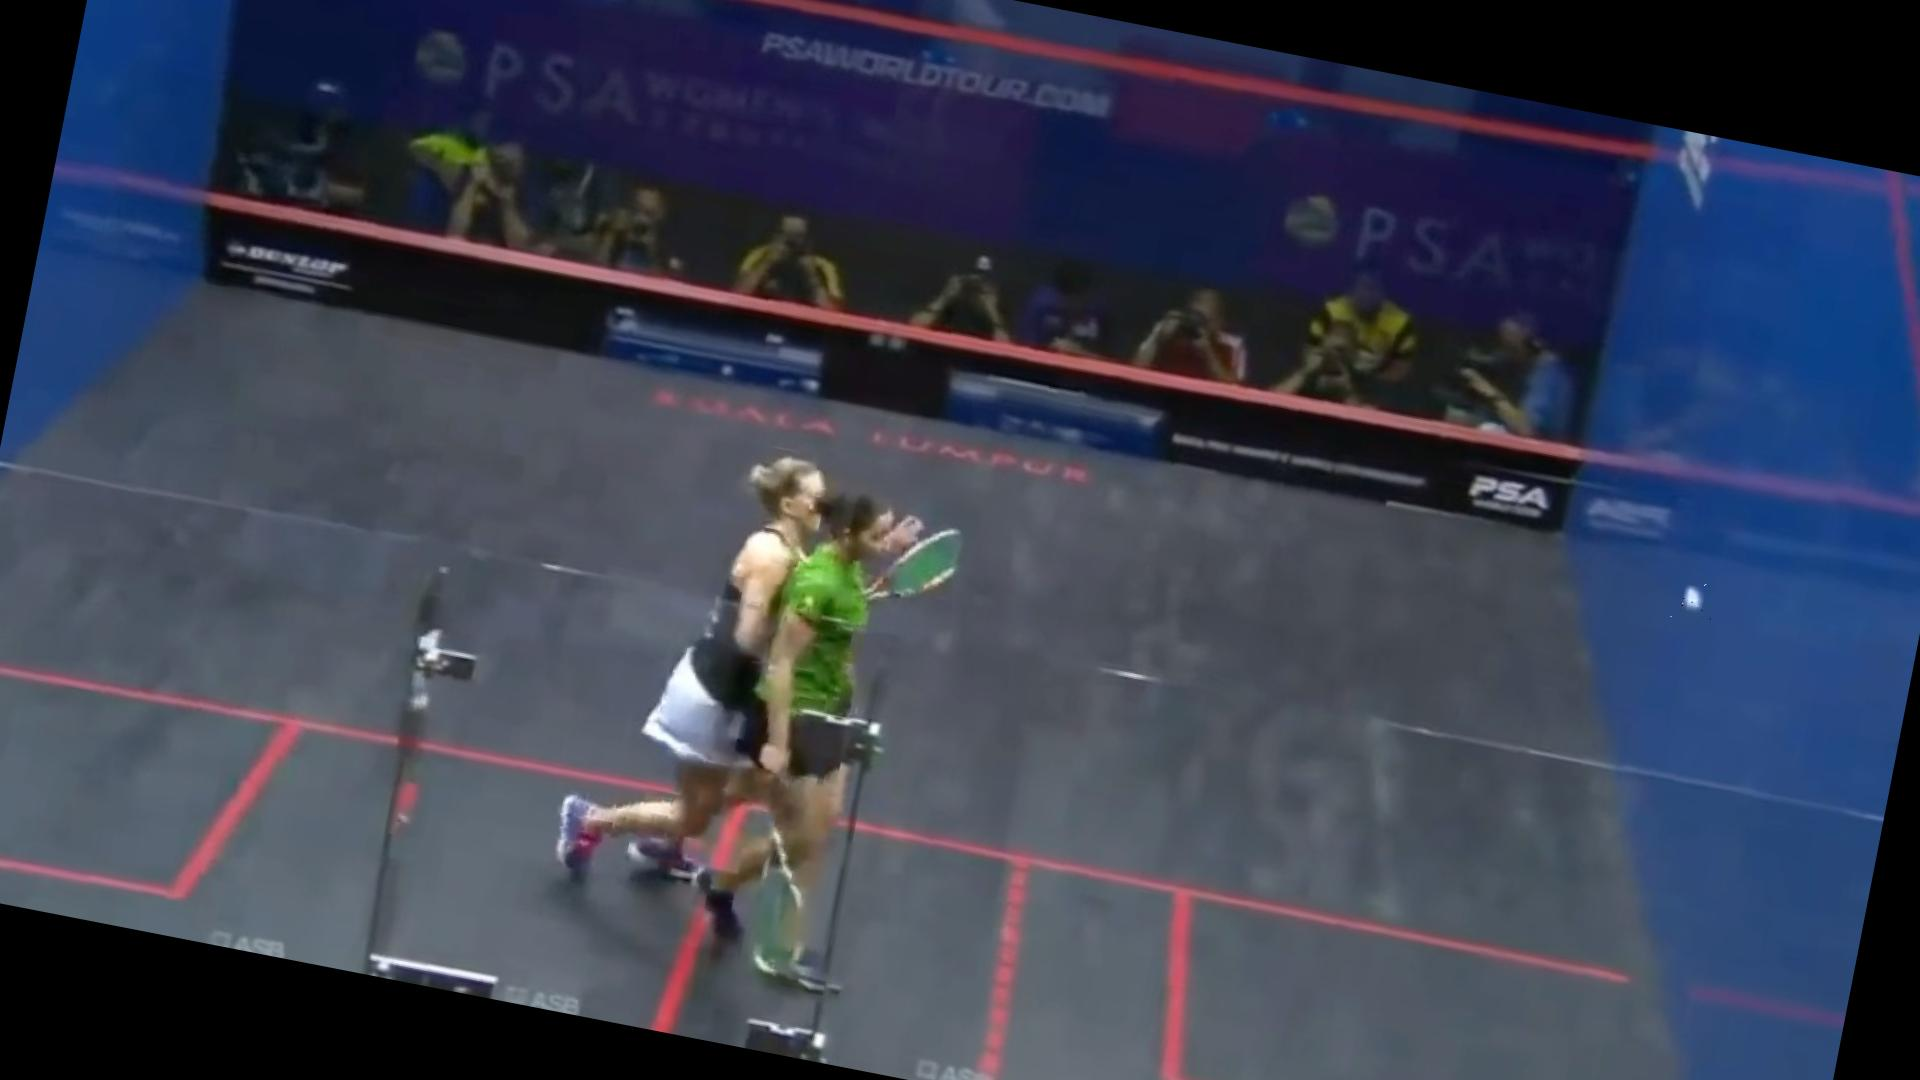Squash-Ball: (1664, 575, 1720, 628)
